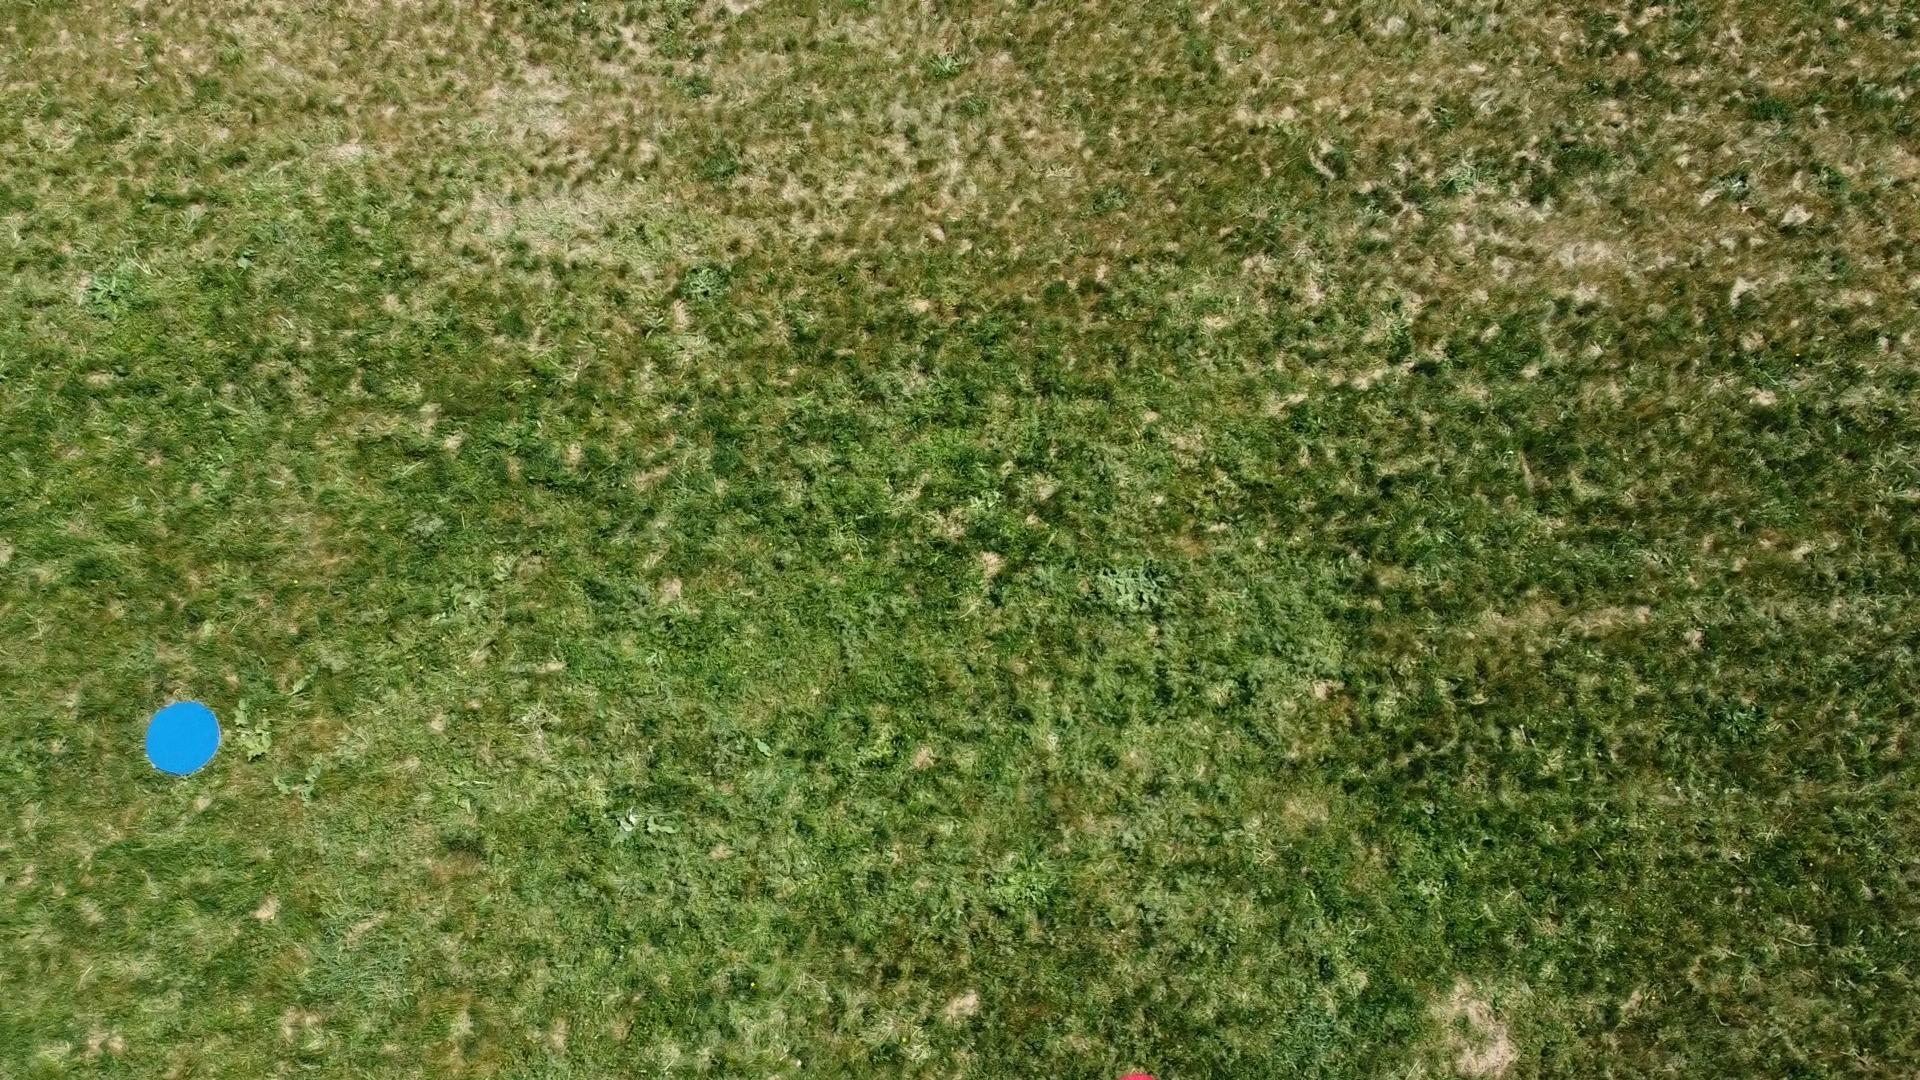Blue: (140, 699, 225, 781)
